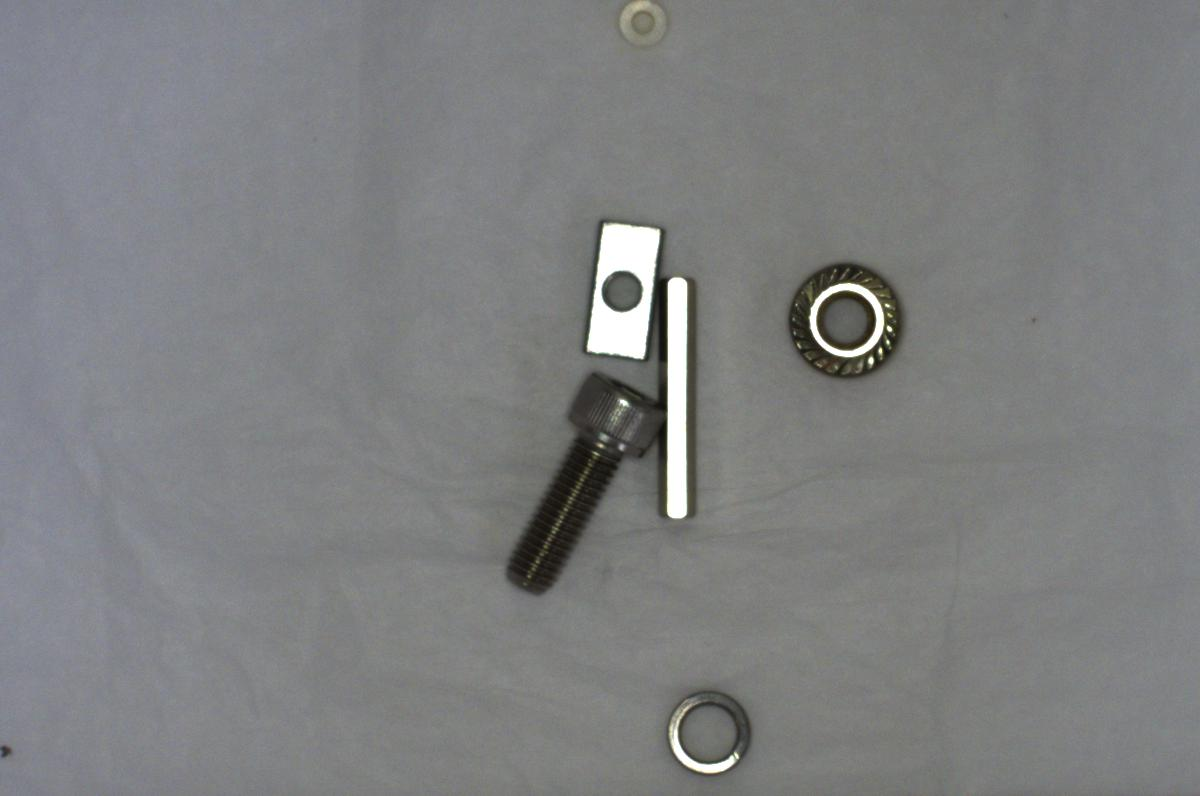Double hexagonal column: (648, 272, 703, 524)
Flange nut: (776, 248, 900, 383)
Hexagon screw: (488, 362, 664, 596)
Plastic cushion pillar: (606, 1, 674, 49)
Rectangular nut: (569, 217, 665, 358)
Spring washer: (664, 680, 762, 778)
